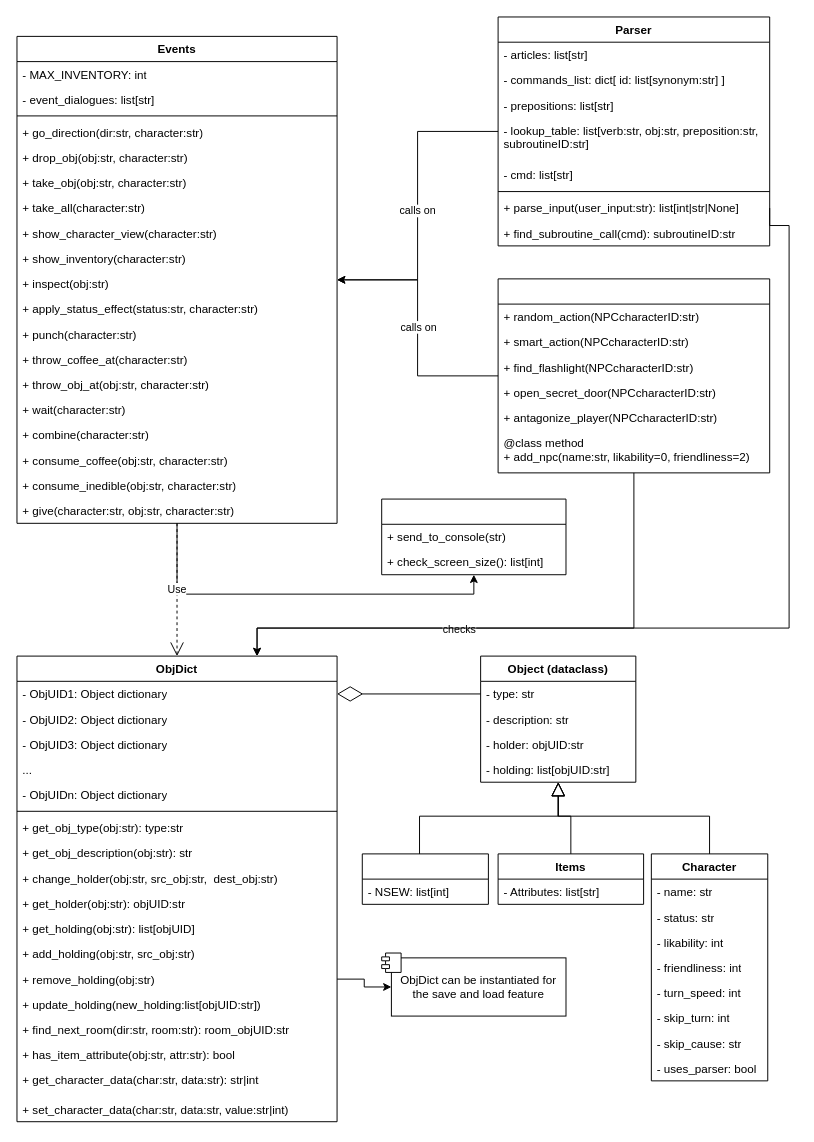
This 814x1142 diagram has some shape labels left out. Here are the shapes that lost their labels. From the top down, the box of each, then its label:
(497, 278, 770, 473): NPC_AI
(381, 498, 566, 575): Formatter
(361, 853, 488, 904): Room
